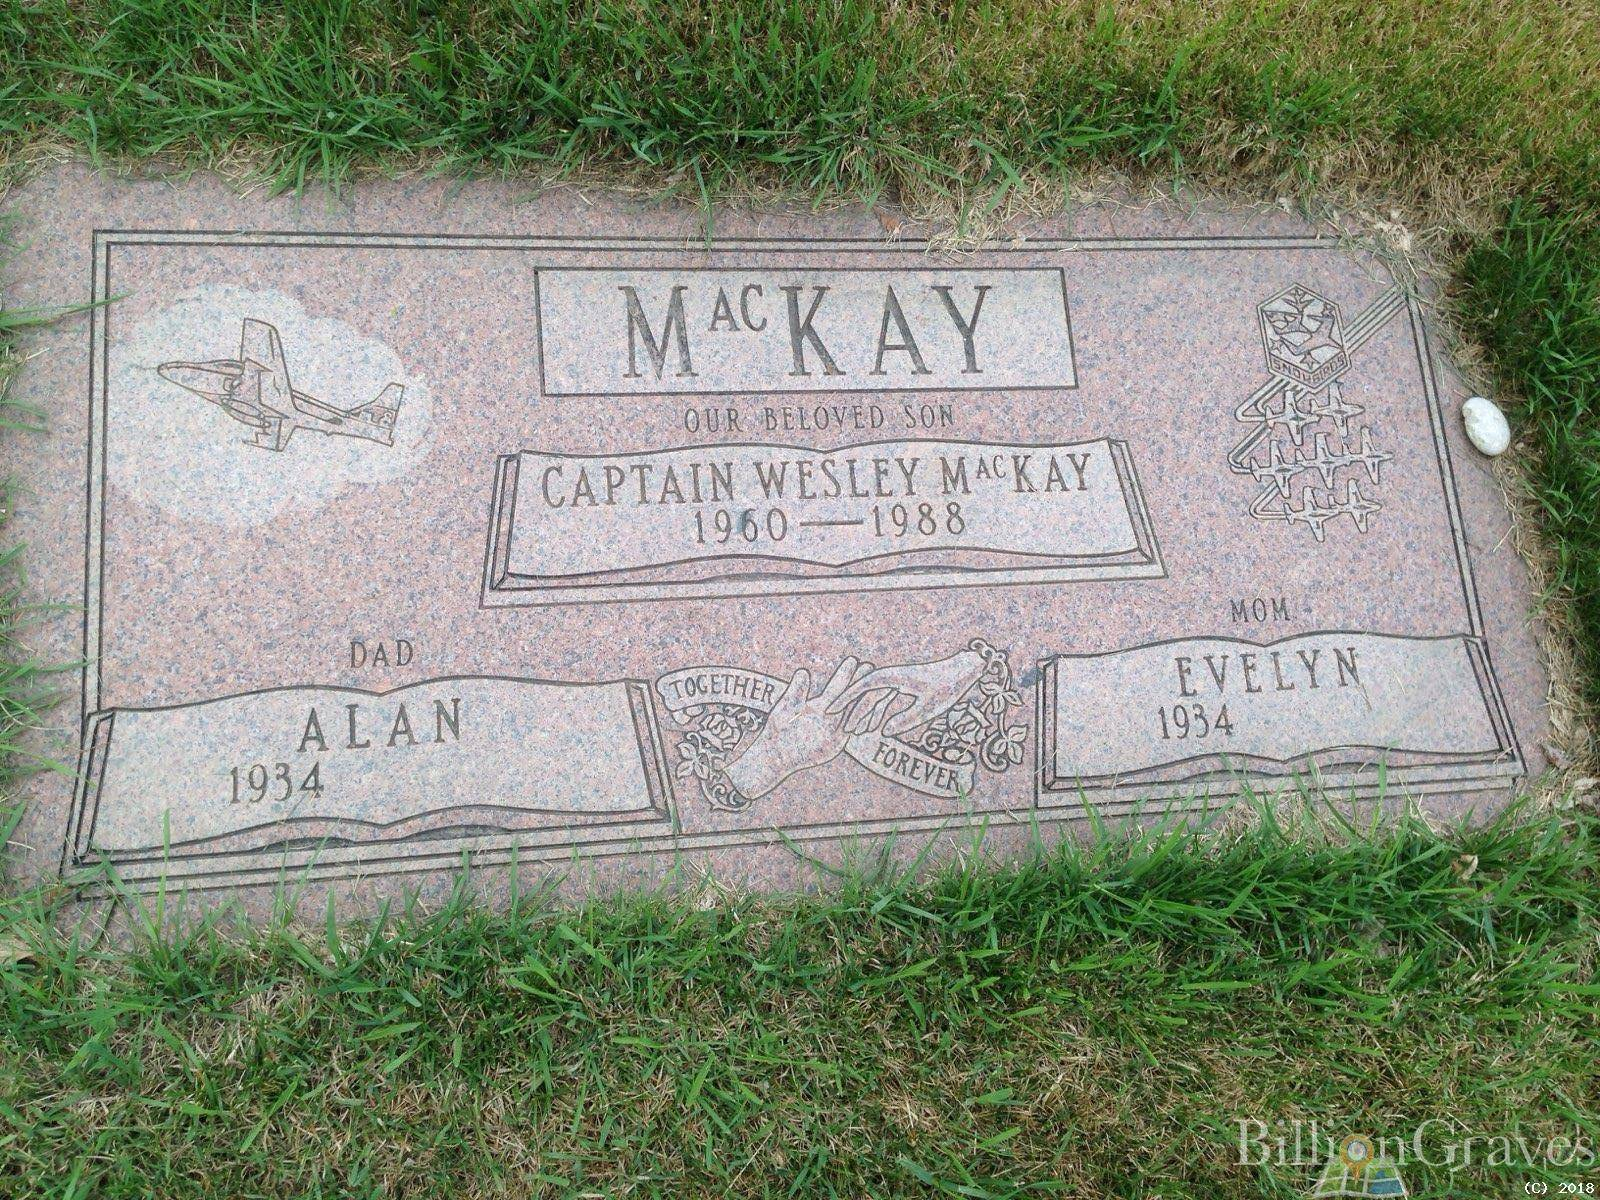flat: (0, 147, 1579, 967)
